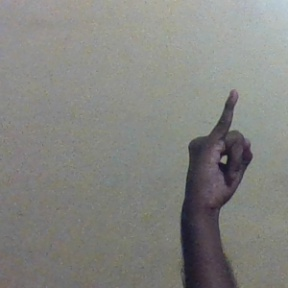I: (182, 87, 258, 208)
